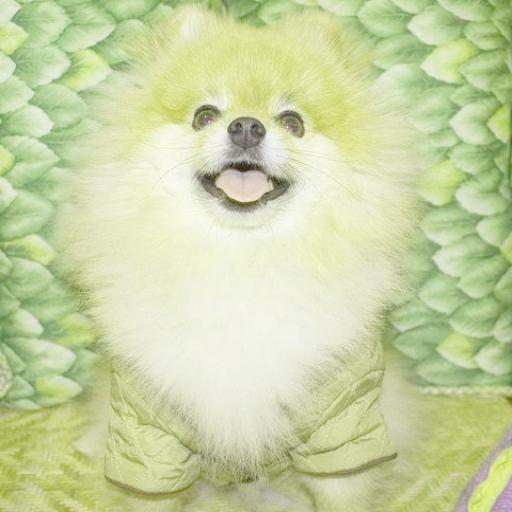dog_face: (131, 14, 369, 231)
